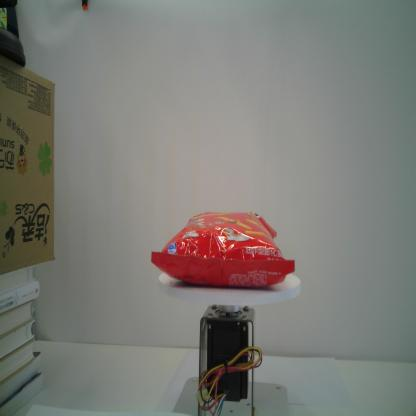Puffed Food: (151, 210, 295, 289)
